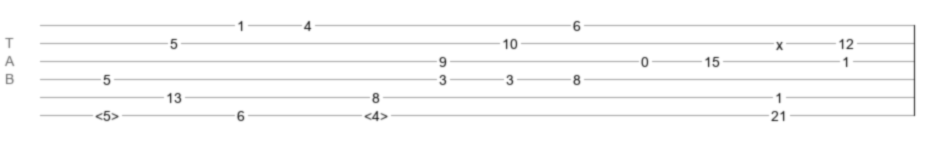0: (641, 54, 649, 64)
1: (237, 18, 245, 28), (775, 90, 783, 100), (842, 54, 850, 64)
10: (502, 36, 518, 46)
12: (838, 36, 854, 46)
13: (166, 90, 182, 100)
15: (704, 54, 720, 64)
21: (771, 108, 787, 118)
3: (439, 72, 447, 82), (506, 72, 514, 82)
4: (304, 18, 312, 28)
5: (103, 72, 111, 82), (170, 36, 178, 46)
6: (237, 108, 245, 118), (573, 18, 581, 28)
8: (372, 90, 380, 100), (573, 72, 581, 82)
9: (439, 54, 447, 64)
harmonic: (95, 108, 119, 118), (364, 108, 388, 118)
x: (776, 37, 783, 45)
